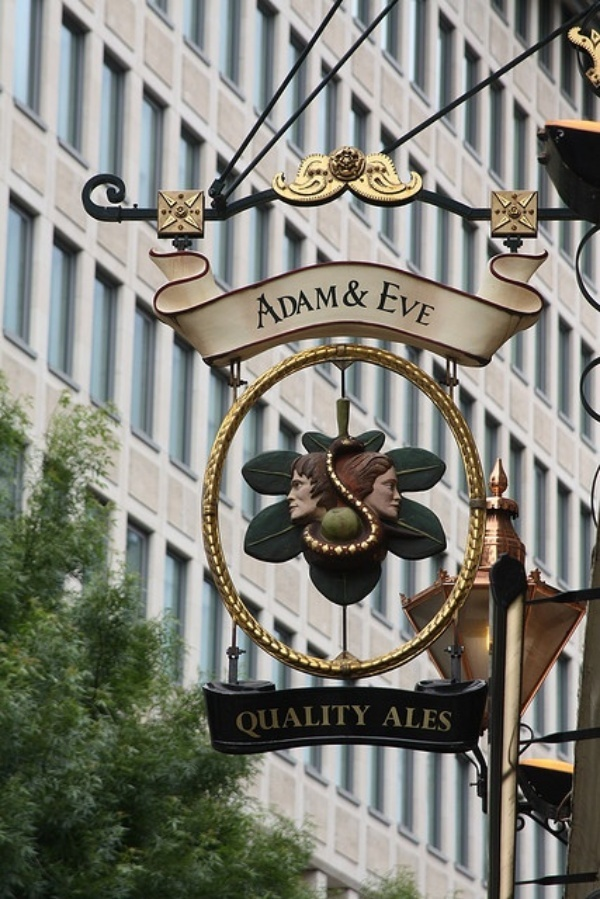text: (385, 277, 400, 328), (401, 277, 416, 328), (417, 277, 432, 328), (257, 281, 272, 331), (273, 281, 288, 331), (289, 281, 304, 331), (305, 281, 320, 331), (321, 281, 336, 331), (241, 701, 256, 739), (257, 701, 272, 739), (273, 701, 288, 739), (289, 701, 304, 739), (305, 701, 320, 739), (321, 701, 336, 739), (337, 701, 352, 739), (353, 701, 368, 739), (353, 279, 368, 310), (401, 706, 416, 732), (417, 706, 432, 732), (433, 706, 448, 732), (388, 706, 400, 732), (342, 279, 352, 310), (433, 277, 439, 328), (234, 701, 240, 739), (449, 706, 453, 732), (337, 281, 339, 331), (369, 701, 371, 739), (383, 277, 384, 328), (369, 279, 370, 310)
